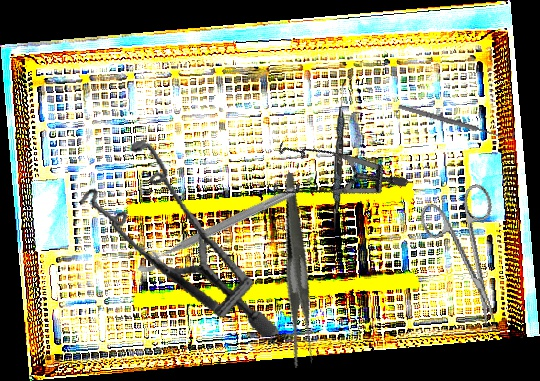Dressing Forceps: (242, 171, 356, 372)
Fixation Ring: (128, 173, 301, 277)
Hook Surgical: (396, 98, 517, 144)
Iris Scissors: (415, 181, 524, 336)
Spatula Surgical: (331, 78, 347, 233)
Speculum: (69, 121, 281, 367), (251, 102, 411, 258)
